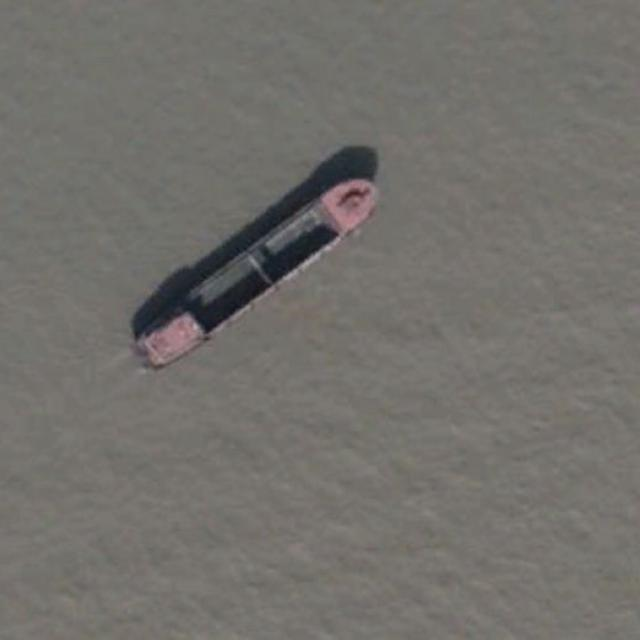ship: (131, 175, 383, 374)
